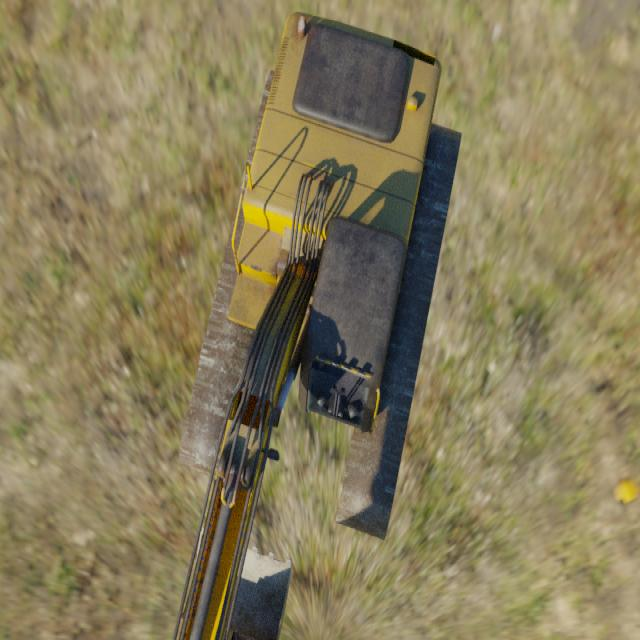excavator: (172, 10, 462, 640)
